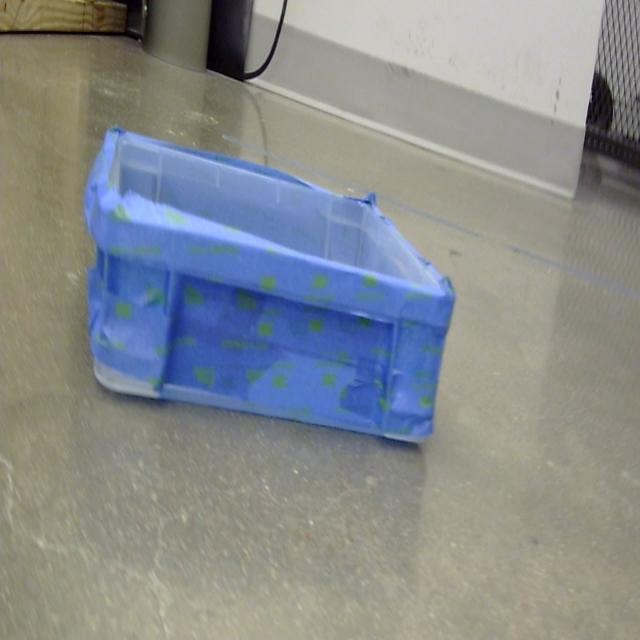bucket: (82, 128, 456, 445)
